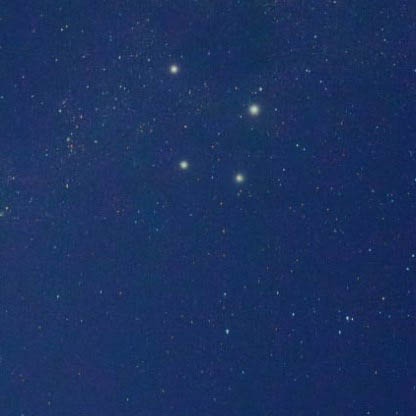Southern Cross: (242, 101, 266, 122), (164, 59, 182, 80), (231, 169, 248, 190), (174, 154, 190, 173)
